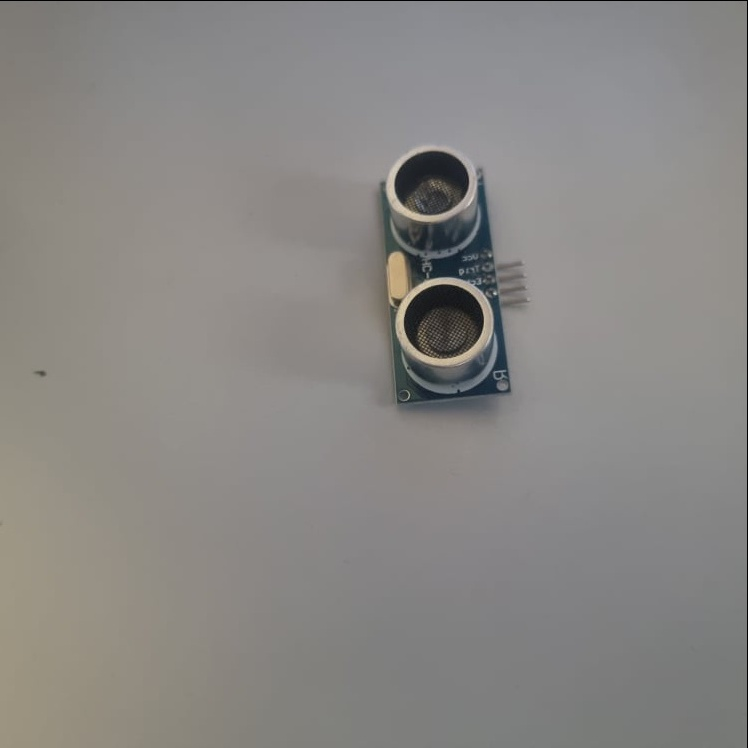SENSOR: (377, 141, 517, 405)
